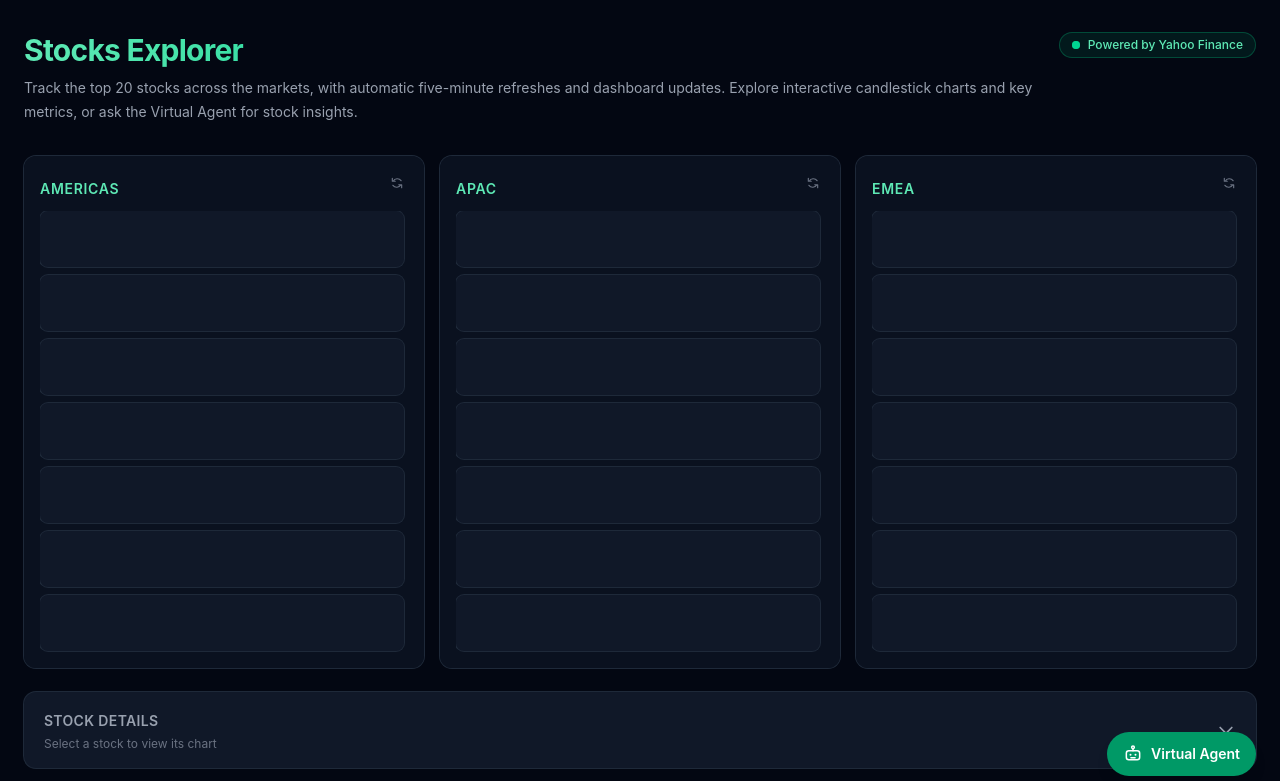
Test case: App › renders ticker input, date pickers and load button when expanded
Check: the field with placeholder "AAPL" is not shown
Click the button "Stock details Select a stock to view its chart": (101, 720) x1=24 y1=692 x2=1256 y2=768
(page scrolled)
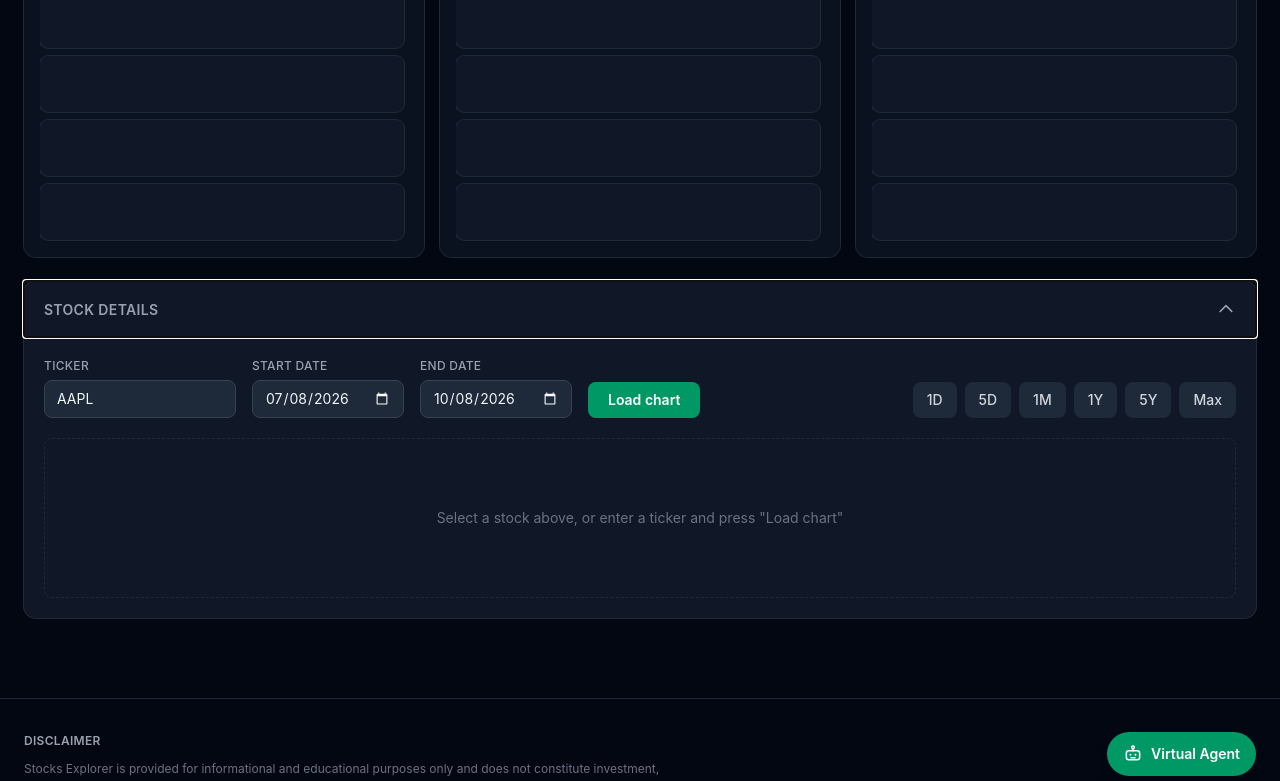
Check: the dropdown with placeholder "AAPL" is shown, box x1=44 y1=380 x2=236 y2=418
Check: the date field labelled "Start date" is shown, box x1=252 y1=380 x2=404 y2=418
Check: the date field labelled "End date" is shown, box x1=420 y1=380 x2=572 y2=418
